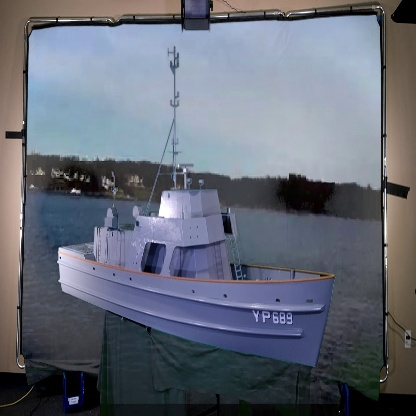YP689: (54, 48, 342, 369)
